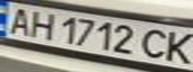1: (90, 19, 115, 52), (54, 14, 78, 45)
2: (112, 21, 139, 56)
7: (72, 16, 96, 47)
A: (3, 4, 36, 36)
C: (136, 26, 175, 61)
H: (24, 8, 57, 41)
K: (160, 28, 193, 65)
